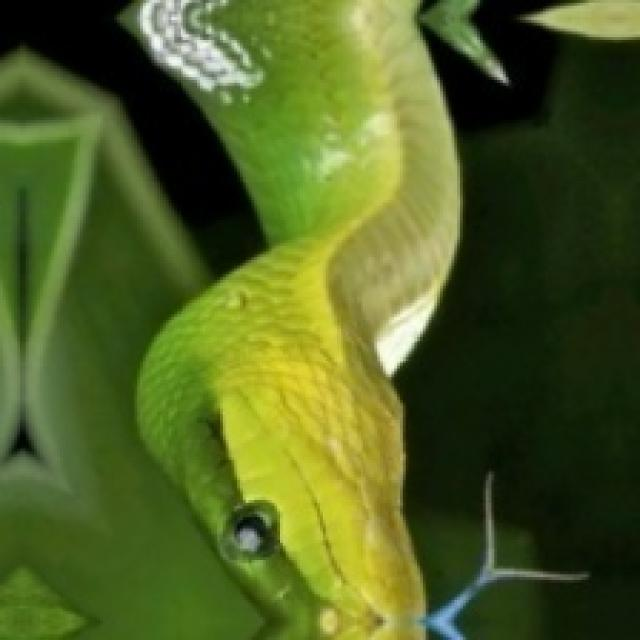red-tailed green ratsnake: (138, 0, 461, 639)
